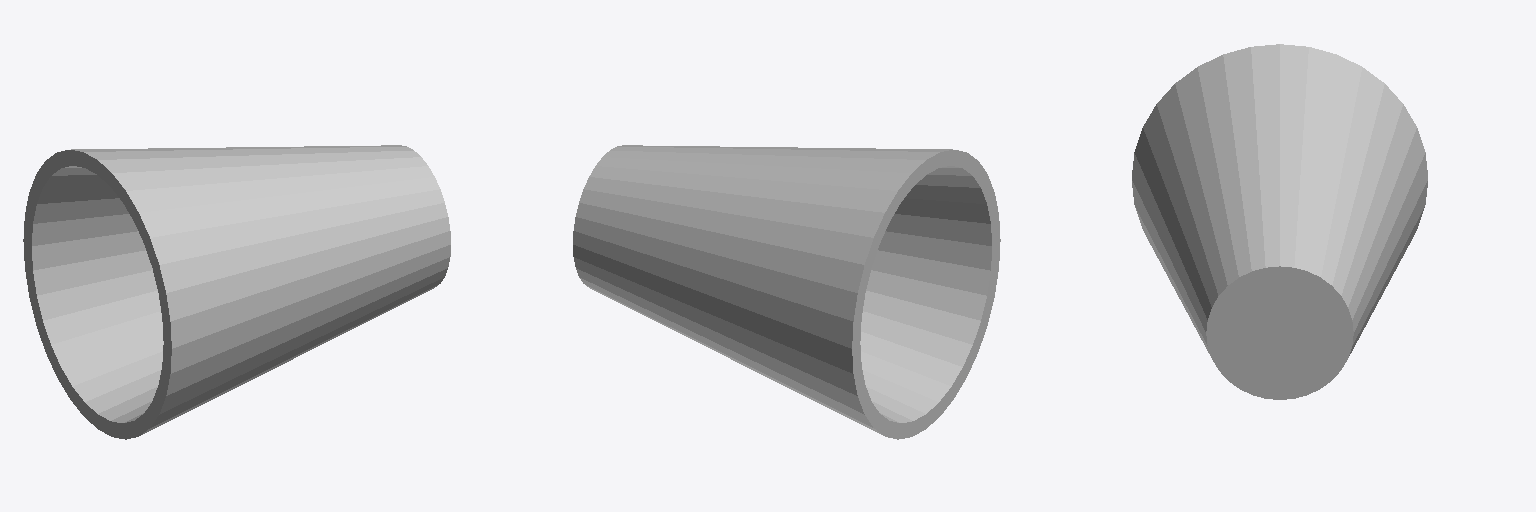
Rendered from parts_04.obj.
The picture shows the model from 3 angles: view 1: azimuth 30°, elevation 25°; view 2: azimuth 150°, elevation 25°; view 3: azimuth 270°, elevation 25°; orthographic projection.
Visible parts, largest first — view 1: 右エンジン; view 2: 右エンジン; view 3: 右エンジン.
Boxes of the visible parts, x1,y1,x2,y2 form: 右エンジン: [23, 145, 450, 439]; 右エンジン: [573, 145, 1000, 439]; 右エンジン: [1132, 44, 1427, 399].
Bounding box in the file's own units: 0.3285 × 0.2668 × 0.2668.